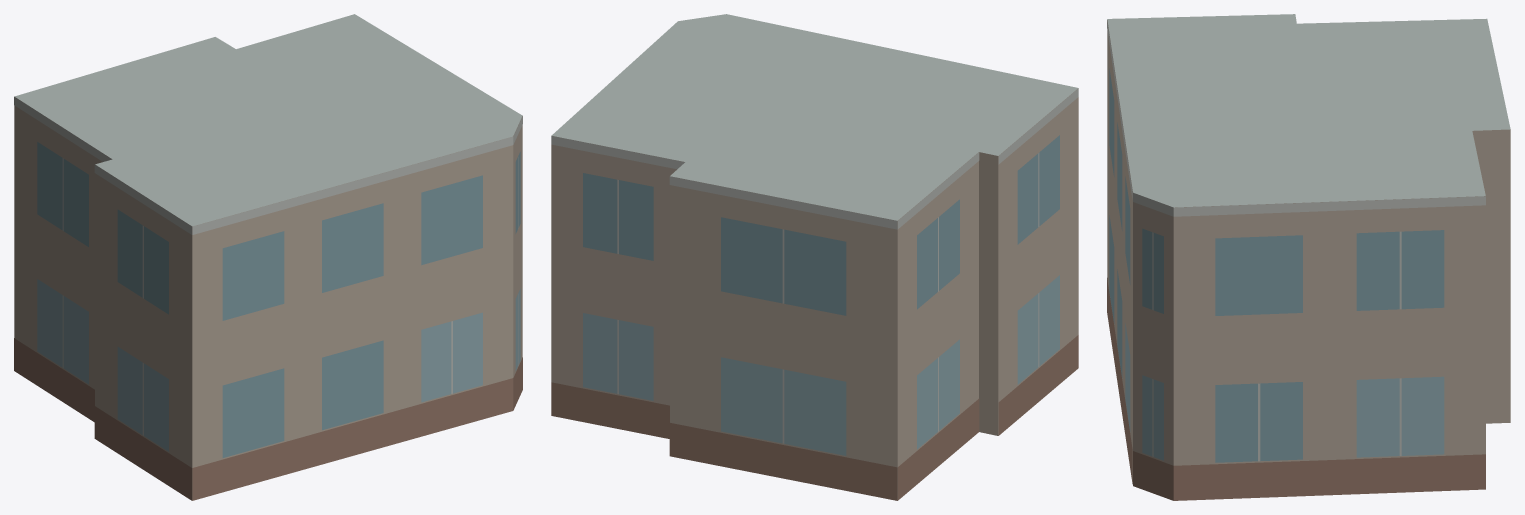
The model's file is residential-f4aa91cb-ba4d-4ae5-a01e-e74a06e4450c.glb.
3 renders of one model, left to right at view 1: azimuth 30°, elevation 25°; view 2: azimuth 150°, elevation 25°; view 3: azimuth 270°, elevation 25°, orthographic. The views are drawn at different scales.
Parts seen in each view (by area): view 1: residential-f4aa91cb-ba4d-4ae5-a01e-e74a06e4450c.tmp; view 2: residential-f4aa91cb-ba4d-4ae5-a01e-e74a06e4450c.tmp; view 3: residential-f4aa91cb-ba4d-4ae5-a01e-e74a06e4450c.tmp.
Boxes of the visible parts, x1=… form: residential-f4aa91cb-ba4d-4ae5-a01e-e74a06e4450c.tmp: x1=14, y1=14, x2=522, y2=500; residential-f4aa91cb-ba4d-4ae5-a01e-e74a06e4450c.tmp: x1=551, y1=14, x2=1078, y2=500; residential-f4aa91cb-ba4d-4ae5-a01e-e74a06e4450c.tmp: x1=1107, y1=14, x2=1510, y2=500.
Size of the model in its own units: 10.9 by 7.7 by 9.61.
